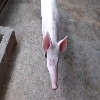heo: (41, 29, 69, 90)
